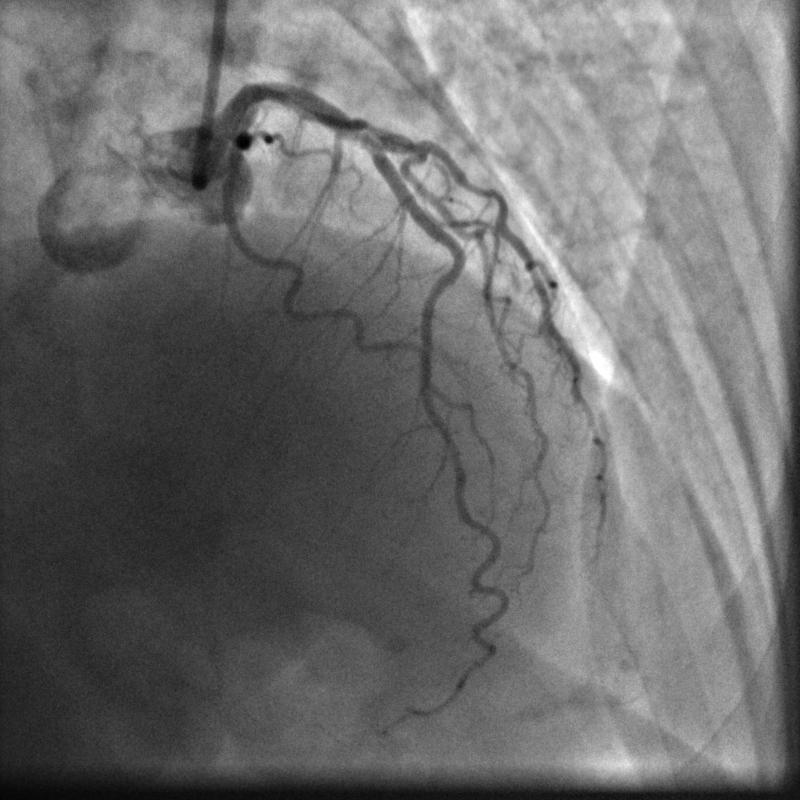Stenosis: (353, 112, 374, 147)
